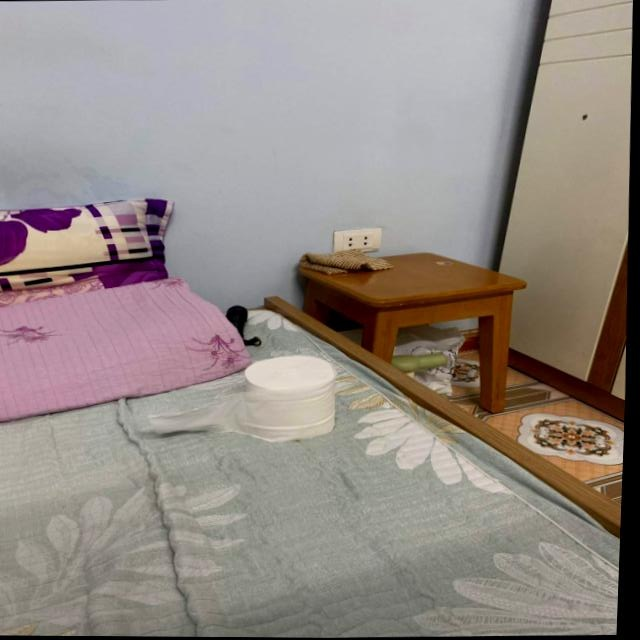outlet: (334, 226, 384, 253)
